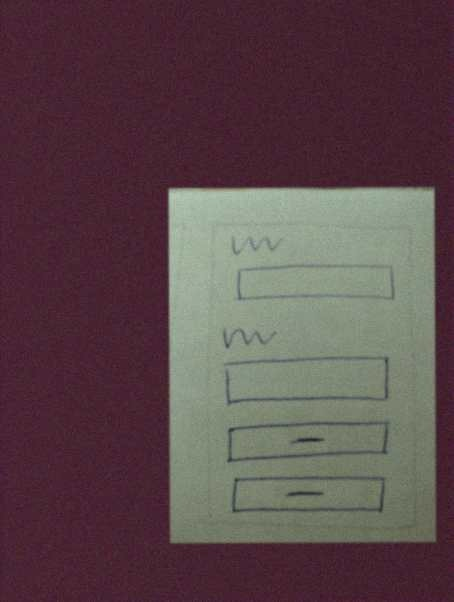button: (229, 472, 392, 518), (221, 419, 394, 462)
text: (226, 230, 289, 259), (219, 322, 279, 352)
text_input: (217, 353, 396, 411), (230, 260, 399, 308)
